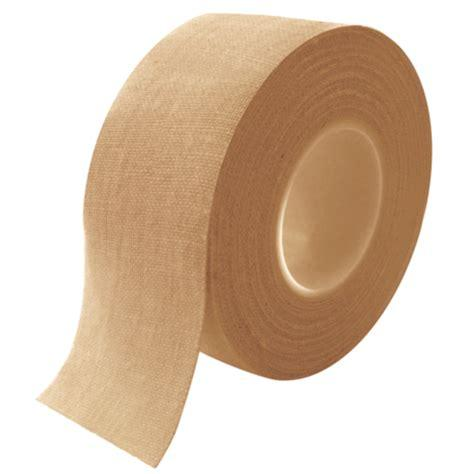gauze: (57, 27, 414, 472)
